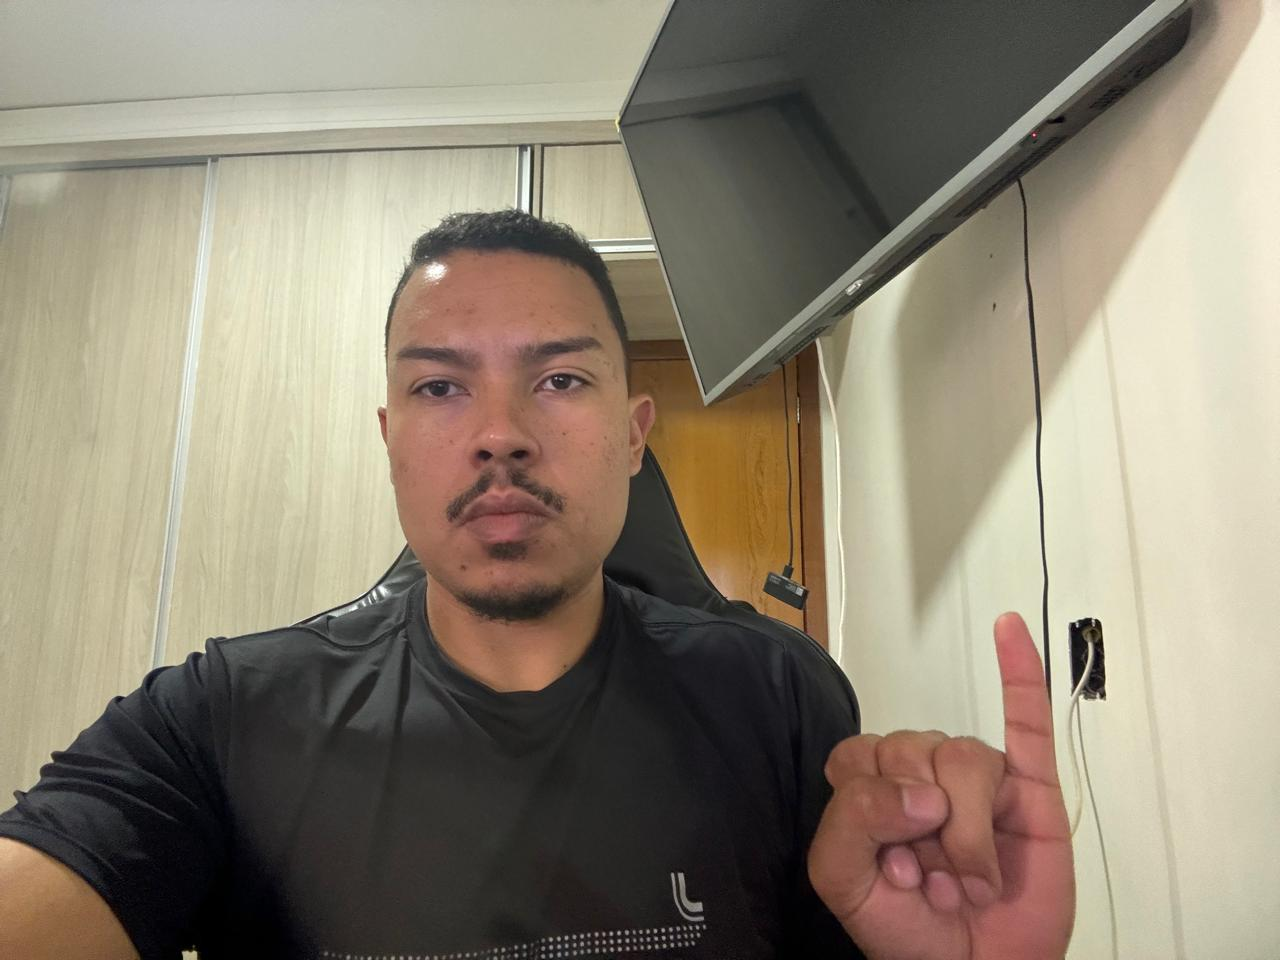i: (785, 599, 1095, 960)
